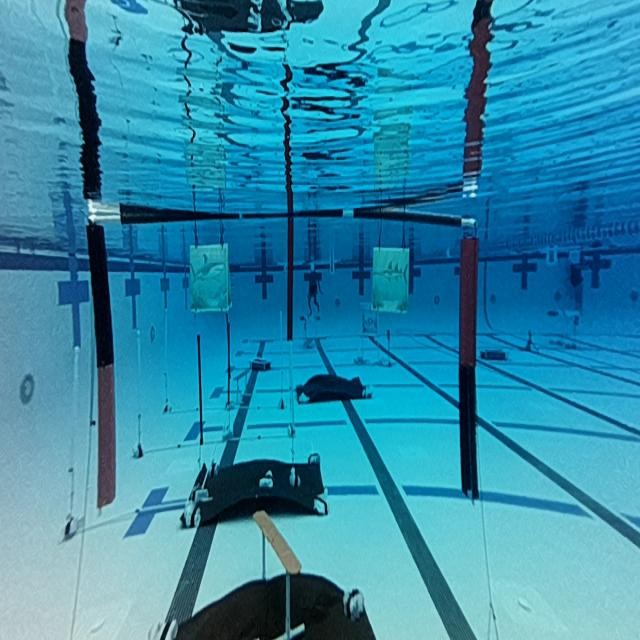pointed_nose: (373, 245, 411, 312)
round_nose: (184, 235, 235, 322)
